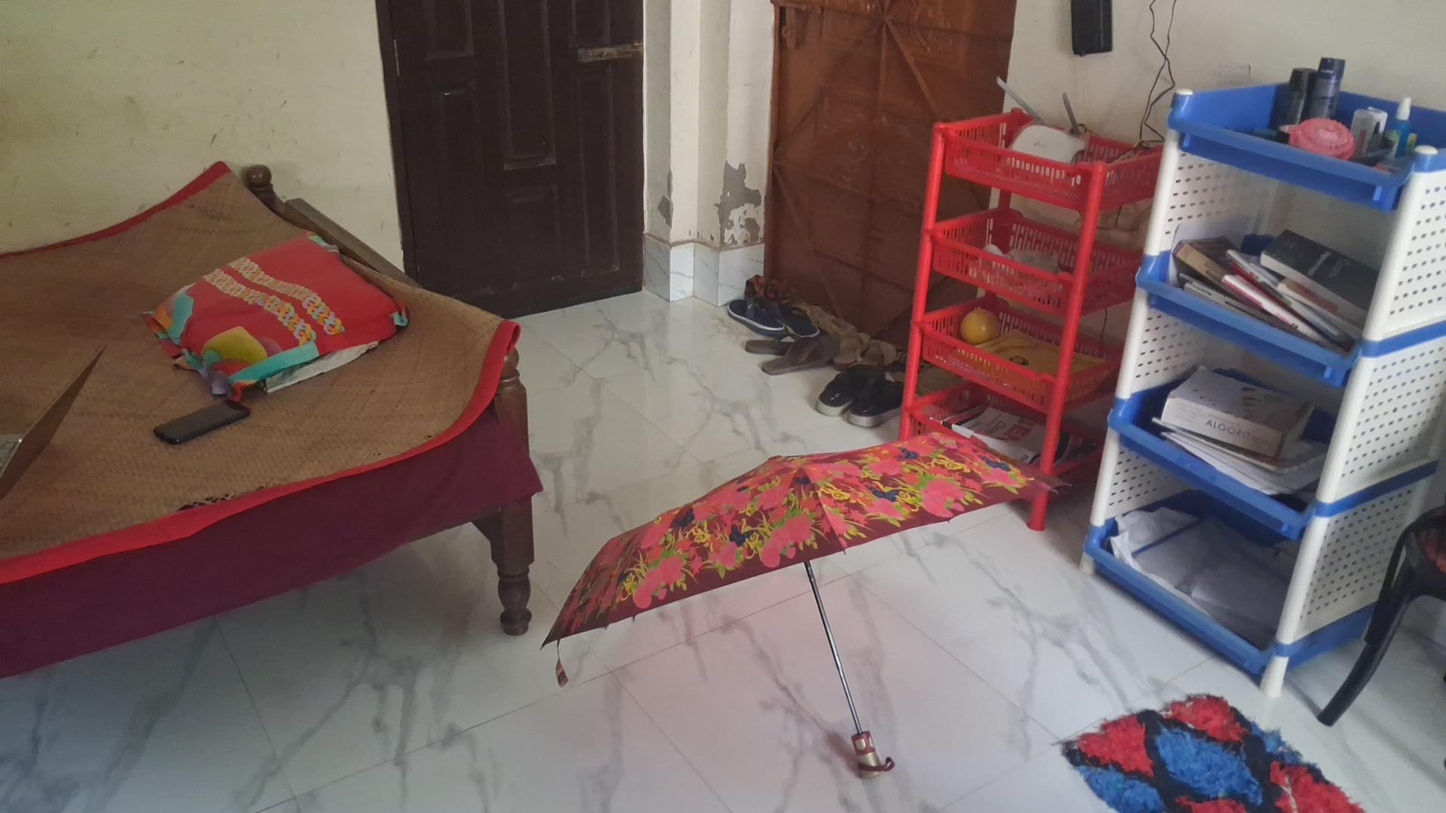Book: (1157, 360, 1317, 455)
Floor Mat: (1062, 696, 1377, 813)
Footwear: (818, 360, 911, 428), (727, 298, 820, 337), (742, 337, 841, 373)
Phone: (153, 397, 252, 445)
Pillow: (145, 227, 406, 397)
Rack: (1079, 79, 1446, 699), (905, 120, 1158, 527)
Umbrella: (539, 424, 1054, 776)
